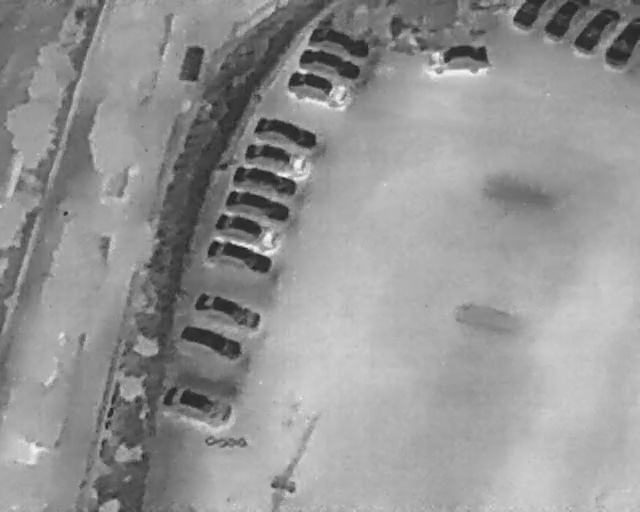Car: (156, 377, 240, 433), (199, 233, 281, 281), (281, 65, 357, 116), (189, 286, 265, 336), (209, 205, 288, 253), (172, 317, 247, 366), (569, 0, 626, 62), (292, 41, 367, 88), (238, 136, 316, 180), (221, 183, 296, 228), (249, 109, 322, 155), (227, 160, 302, 202), (305, 19, 375, 64), (422, 40, 494, 80), (542, 0, 591, 43), (603, 14, 639, 70), (510, 0, 547, 32)
